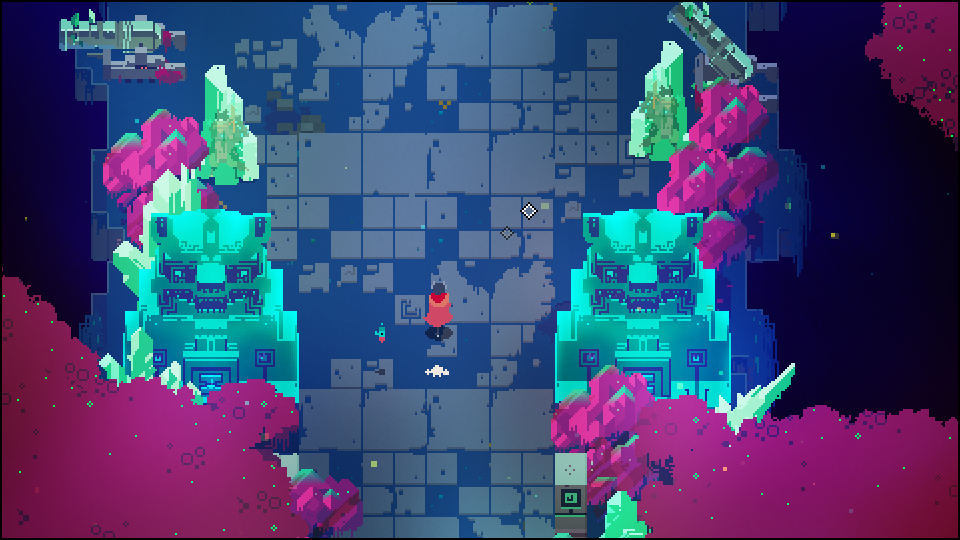player: (427, 279, 454, 330)
